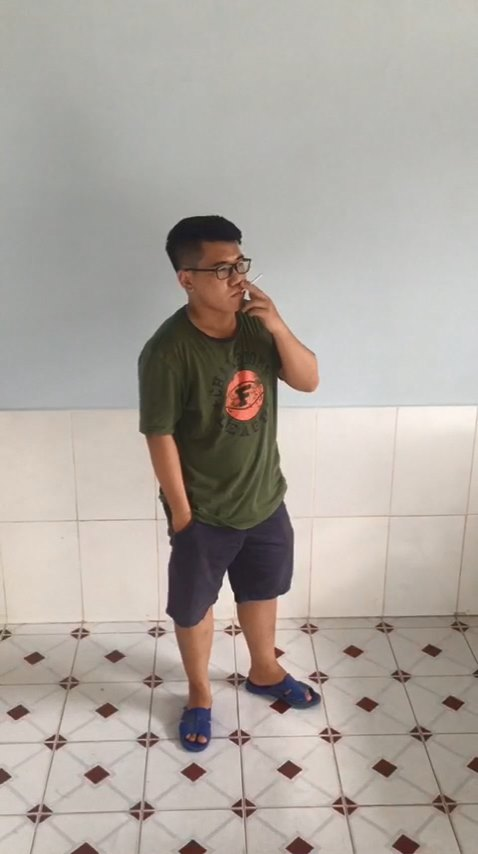cigarette: (247, 272, 268, 294)
person: (135, 198, 360, 768)
